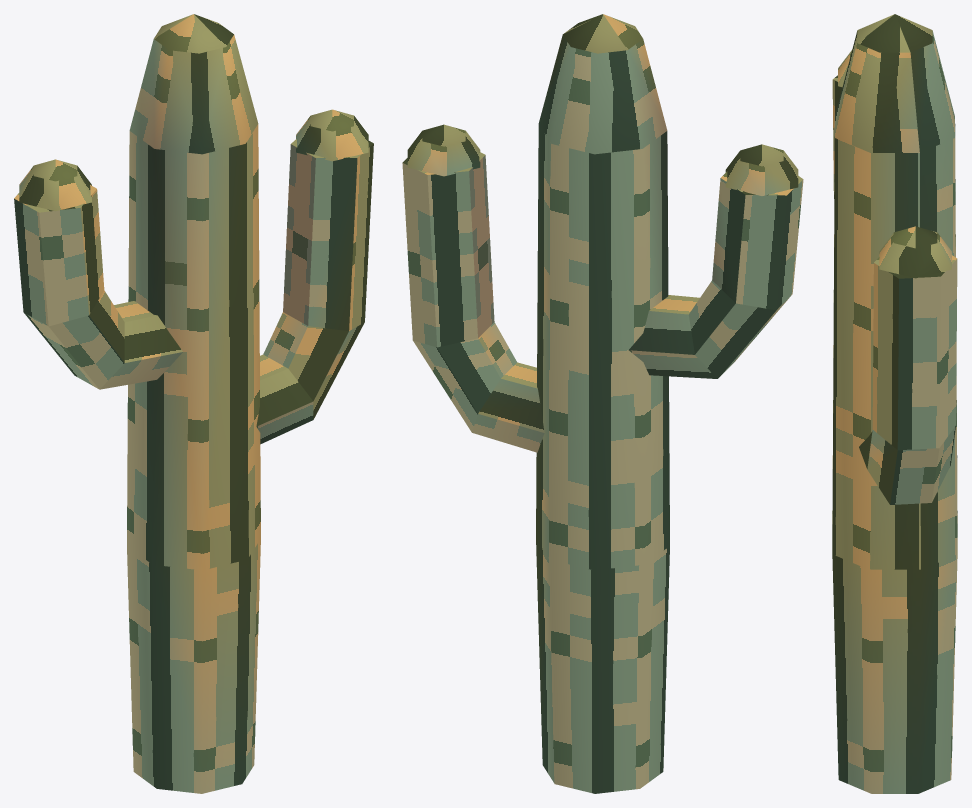
File: wprop.cactus.glb
3 views of the same model, side by side, from view 1: azimuth 30°, elevation 25°; view 2: azimuth 150°, elevation 25°; view 3: azimuth 270°, elevation 25° (orthographic).
Parts seen in each view (by area): view 1: kit_trunk, kit_arms, kit_tips; view 2: kit_trunk, kit_arms, kit_tips; view 3: kit_trunk, kit_arms, kit_tips.
Boxes of the visible parts, <box> form: kit_trunk: <box>127,14,260,793</box>; kit_arms: <box>14,139,373,444</box>; kit_tips: <box>19,109,368,211</box>; kit_trunk: <box>536,14,669,793</box>; kit_arms: <box>402,152,803,452</box>; kit_tips: <box>407,124,798,195</box>; kit_trunk: <box>832,14,957,793</box>; kit_arms: <box>832,75,957,504</box>; kit_tips: <box>838,50,951,278</box>.
Bounding box in the file's own units: 1.64 × 3.2 × 0.4804.
1 material, 1 textured.
